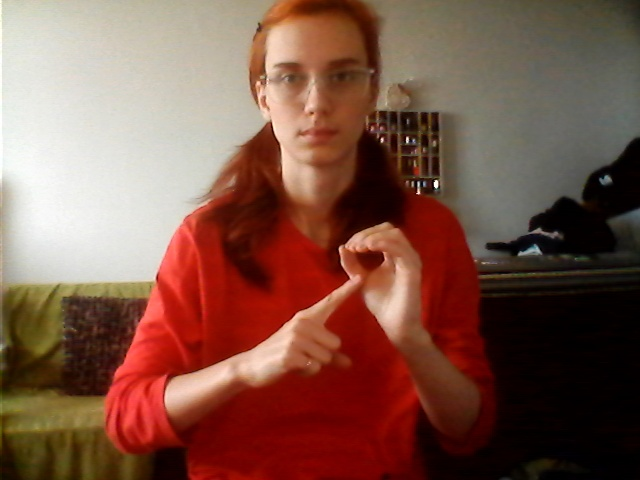q: (263, 221, 439, 390)
